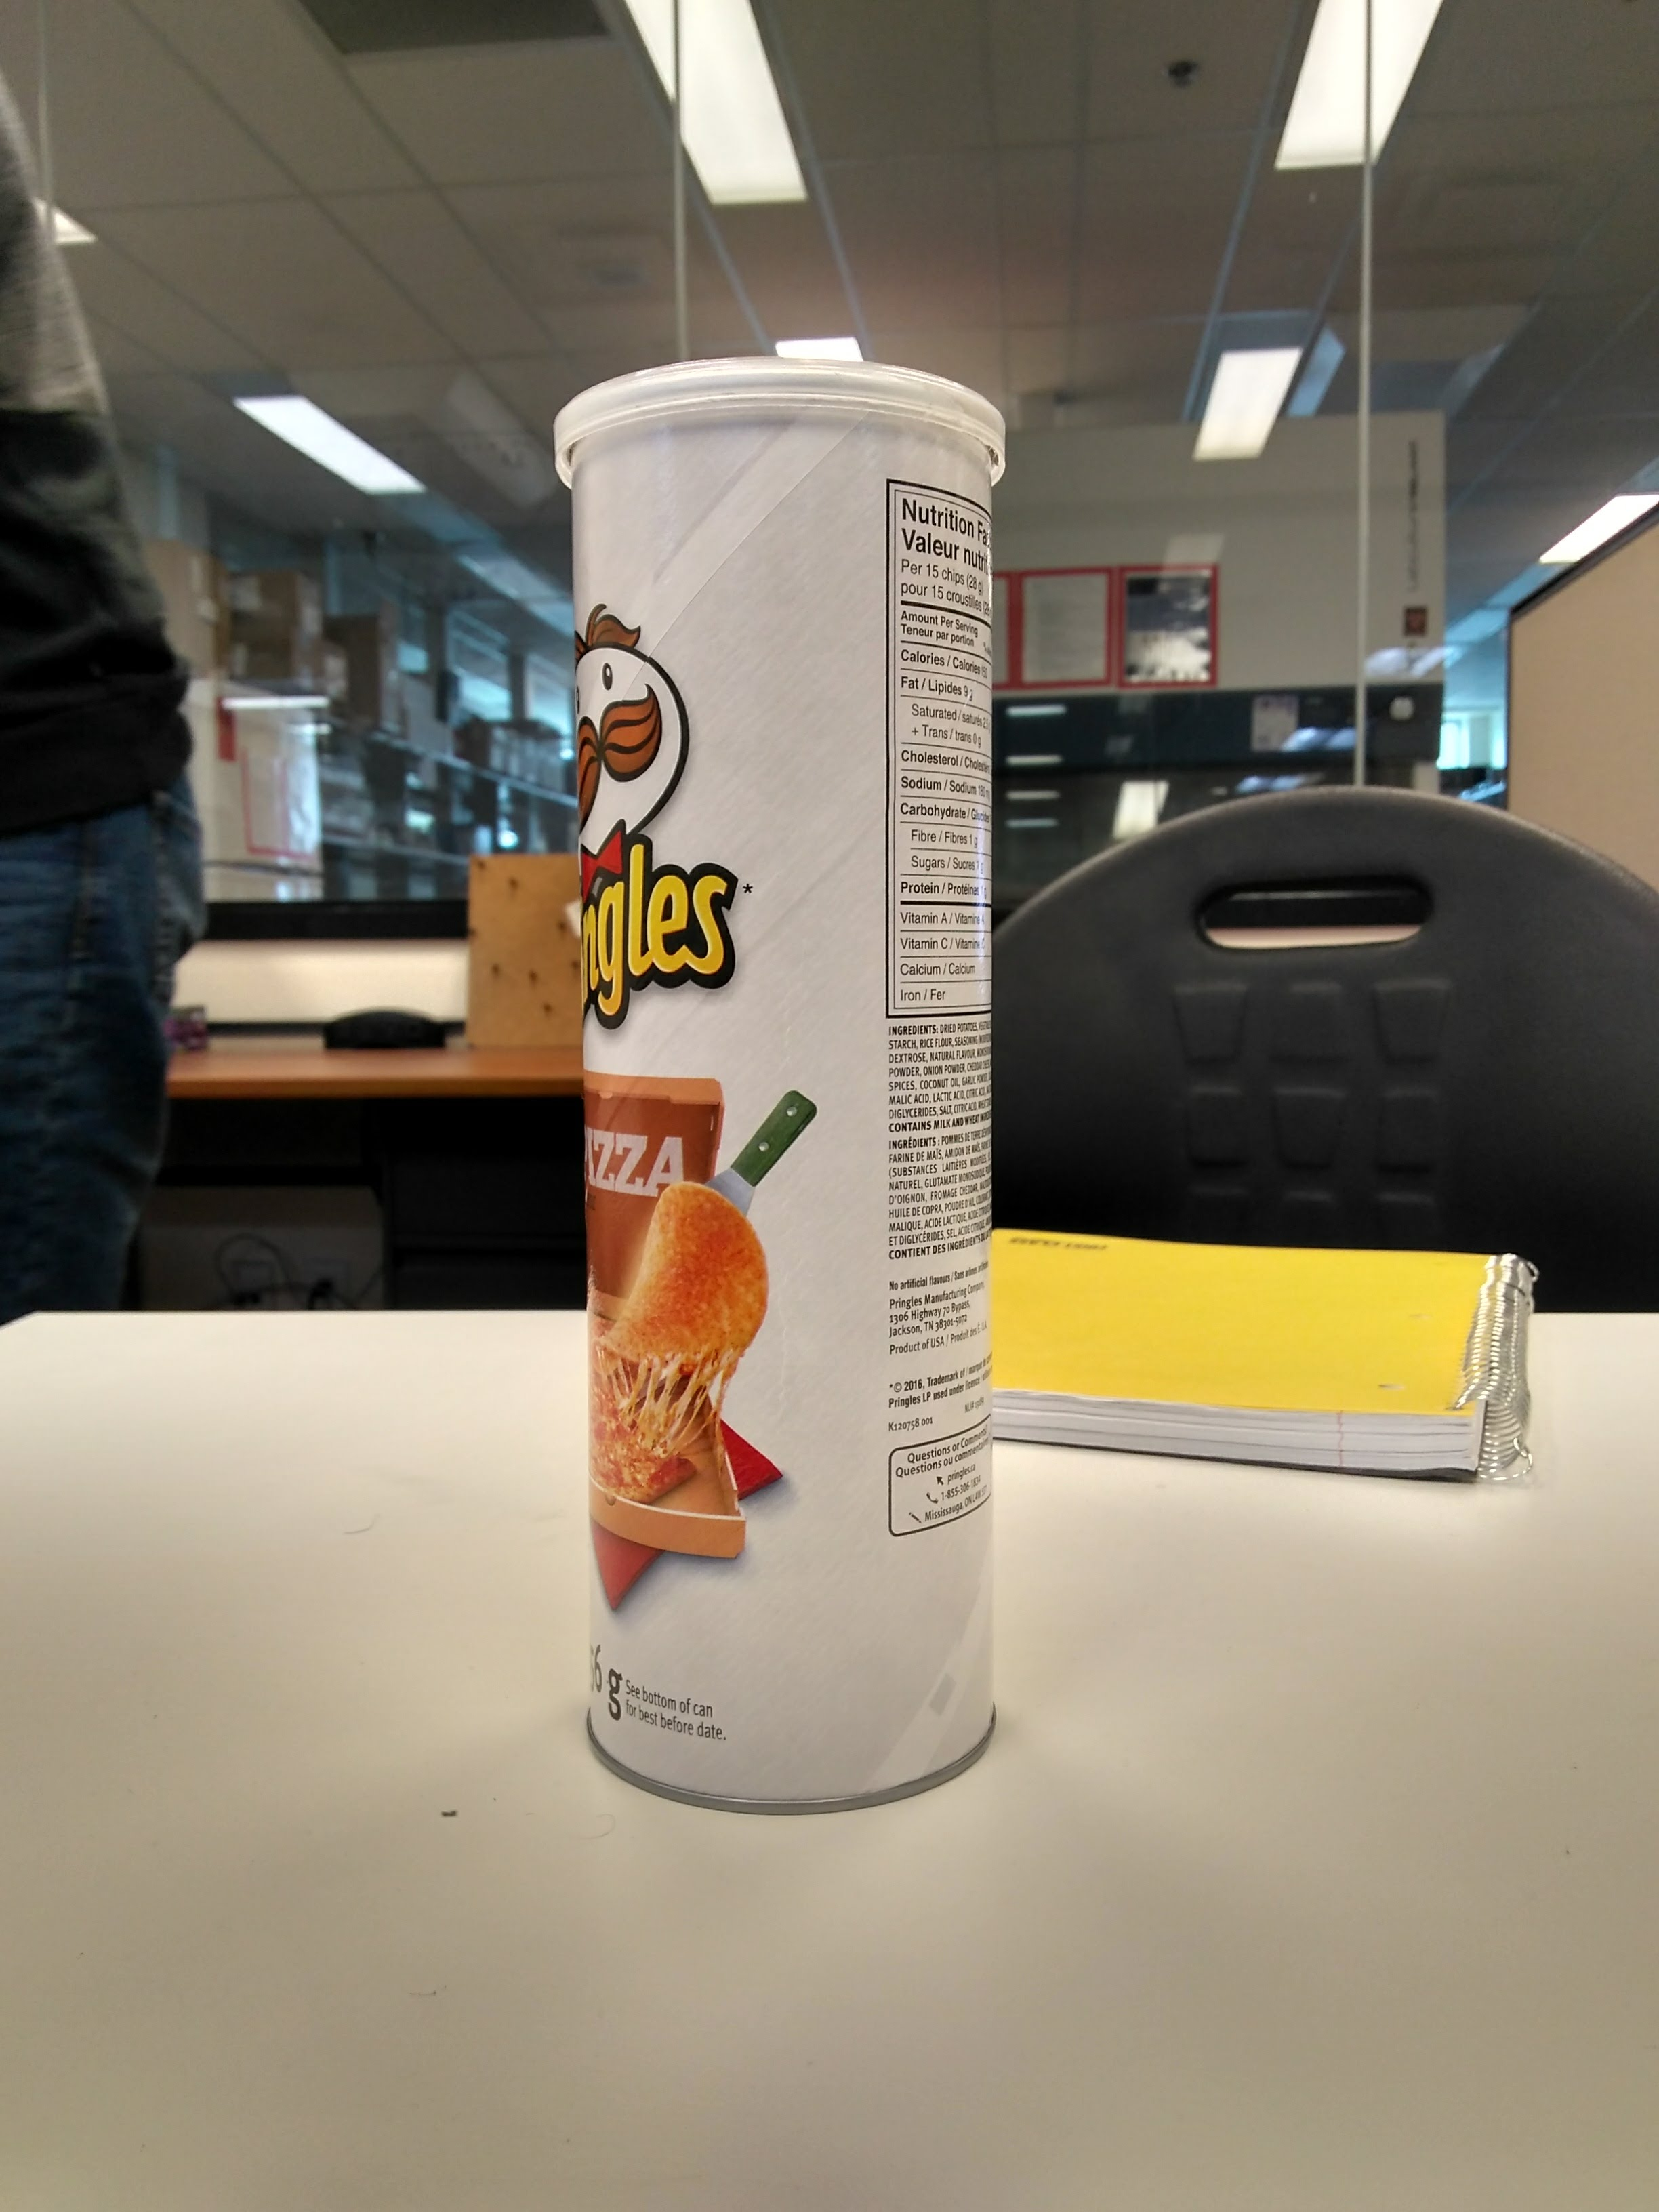pringles: (533, 333, 1082, 1827)
